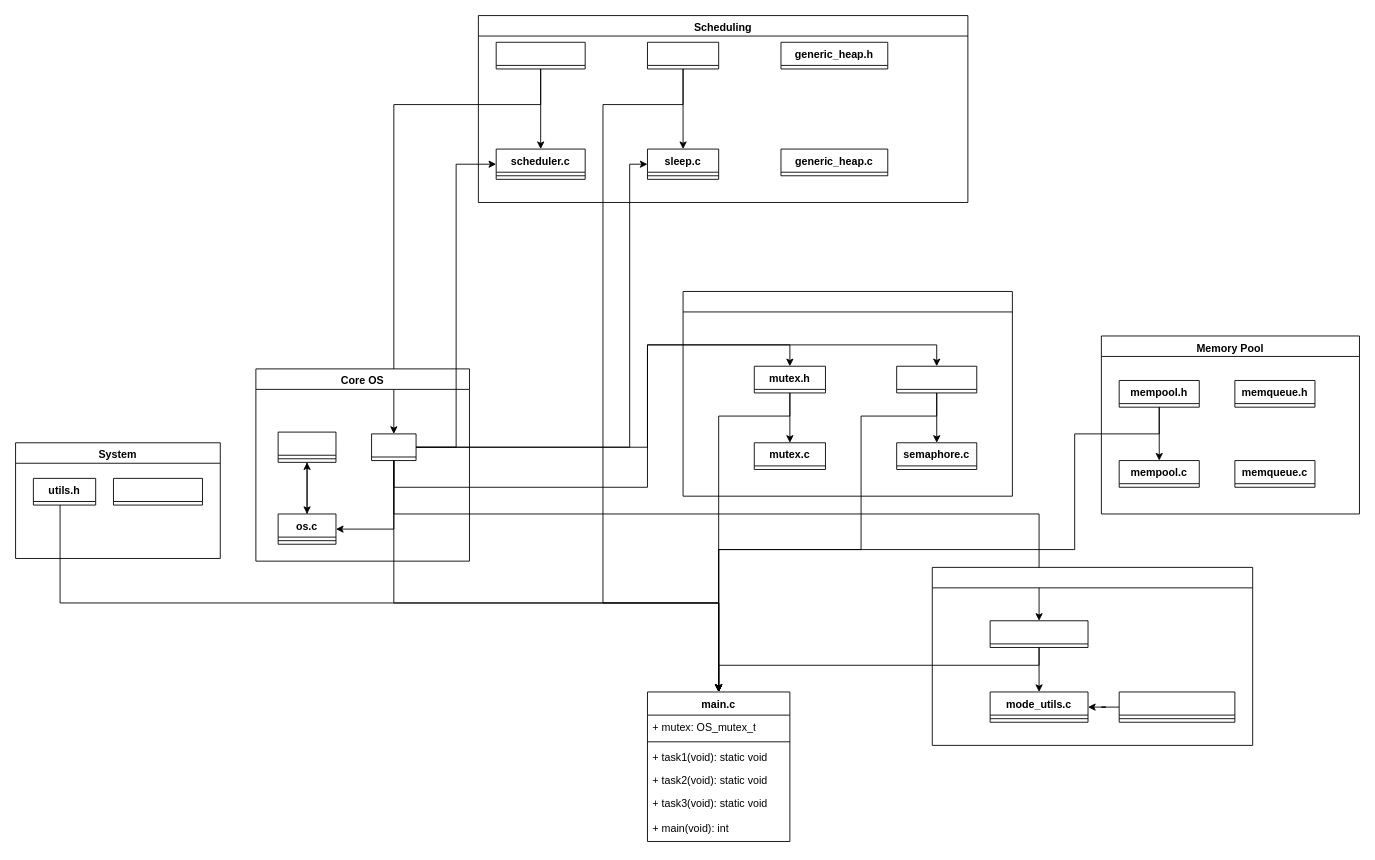
This 1375x860 diagram has some shape labels left out. Here are the shapes that lost their labels. From the top down, the box of each, then its label:
(495, 41, 585, 69): scheduler.h
(647, 41, 719, 69): sleep.h
(682, 291, 1012, 496): Synchronisation
(896, 365, 977, 393): semaphore.h
(277, 431, 336, 462): os_asm.s
(371, 433, 416, 461): os.h
(113, 477, 202, 505): hardfault.h
(989, 620, 1088, 647): mode_utils.h
(931, 566, 1253, 745): User Interface
(1118, 691, 1235, 722): mode_utils_asm.s
